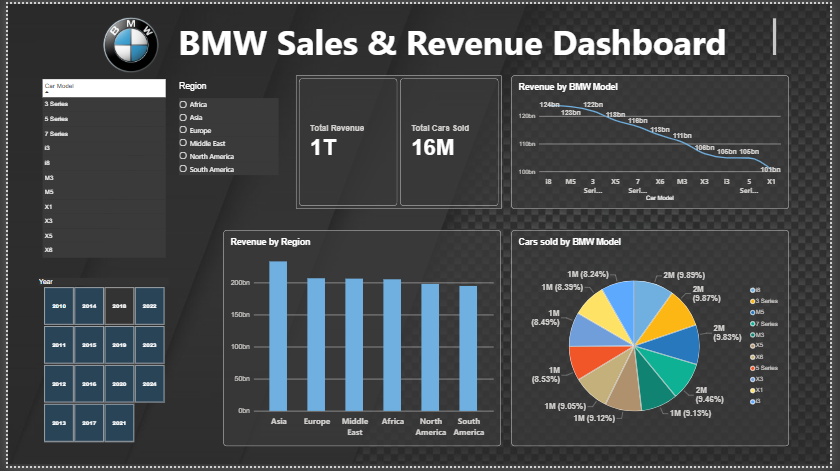

The dashboard page shown, as its layout file describes it:
{"tool":"powerbi","page":{"name":"Page 2","canvas":[1920,1080],"ordinal":1},"visuals":[{"type":"listSlicer","fields":{"Values":["BMW sales data (2010-2024)-selected-columns.Region"]},"box":[384,168,264,264],"z":0},{"type":"columnChart","title":"Revenue by Region","fields":{"Category":["BMW sales data (2010-2024)-selected-columns.Region"],"Y":["Sum(BMW sales data (2010-2024)-selected-columns.Revenue)"]},"box":[504,528,648,504],"z":1000},{"type":"lineChart","title":"Revenue by BMW Model","fields":{"Category":["BMW sales data (2010-2024)-selected-columns.Model"],"Y":["Sum(BMW sales data (2010-2024)-selected-columns.Revenue)"]},"box":[1176,168,648,312],"z":2000},{"type":"cardVisual","fields":{"Data":["Sum(BMW sales data (2010-2024)-selected-columns.Revenue)","Sum(BMW sales data (2010-2024)-selected-columns.Sales_Volume)"]},"box":[672,168,480,312],"z":3000},{"type":"pieChart","title":"Cars sold by BMW Model","fields":{"Category":["BMW sales data (2010-2024)-selected-columns.Car_Model"],"Y":["Sum(BMW sales data (2010-2024)-selected-columns.Sales_Volume)"]},"box":[1176,528,648,504],"z":4000},{"type":"slicer","title":"year","fields":{"Values":["BMW sales data (2010-2024)-selected-columns.Year"]},"box":[64,640,320,384],"z":5000},{"type":"image","box":[48,0,480,192],"z":6000},{"type":"tableEx","fields":{"Values":["BMW sales data (2010-2024)-selected-columns.Car_Model"]},"box":[64,160,320,480],"z":7000},{"type":"textbox","box":[288,32,1504,96],"z":8000},{"type":"textbox","box":[100,100,300,300],"z":9000}]}

Visuals, with their boxes in screenshot pixels (x1, y1, x2, y2), scaled from the page's 1920x1080 canvas onto the 840x471 screenshot:
listSlicer - BMW sales data (2010-2024)-selected-columns.Region: BBox(168, 73, 284, 188)
"Revenue by Region" columnChart: BBox(220, 230, 504, 450)
"Revenue by BMW Model" lineChart: BBox(514, 73, 798, 209)
cardVisual - Sum(BMW sales data (2010-2024)-selected-columns.Revenue) x Sum(BMW sales data (2010-2024)-selected-columns.Sales_Volume): BBox(294, 73, 504, 209)
"Cars sold by BMW Model" pieChart: BBox(514, 230, 798, 450)
"year" slicer: BBox(28, 279, 168, 447)
image: BBox(21, 0, 231, 84)
tableEx - BMW sales data (2010-2024)-selected-columns.Car_Model: BBox(28, 70, 168, 279)
textbox: BBox(126, 14, 784, 56)
textbox: BBox(44, 44, 175, 174)
